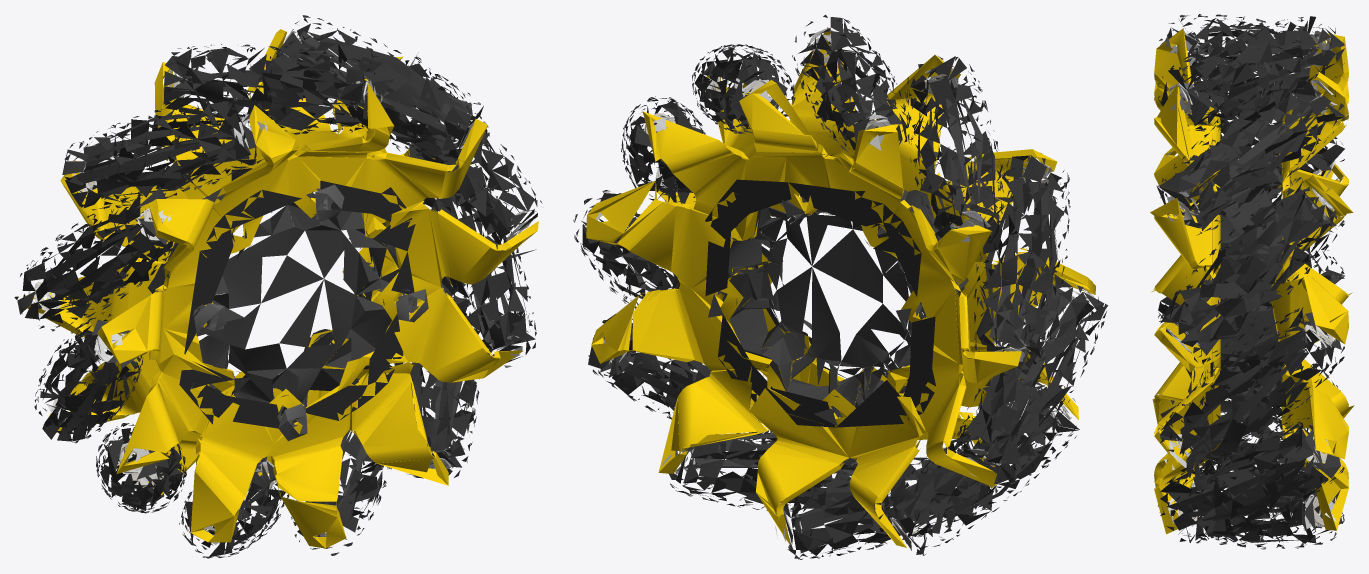
The picture shows the model from 3 angles, left to right: view 1: azimuth 30°, elevation 25°; view 2: azimuth 150°, elevation 25°; view 3: azimuth 270°, elevation 25°; orthographic projection.
Parts seen in each view (by area): view 1: bl; view 2: bl; view 3: bl.
Part boxes in pixels (<box>): bl: <box>14,15,542,558</box>; bl: <box>573,14,1107,559</box>; bl: <box>1150,14,1354,549</box>.
Bounding box in the file's own units: 0.1051 × 0.1045 × 0.0422.
